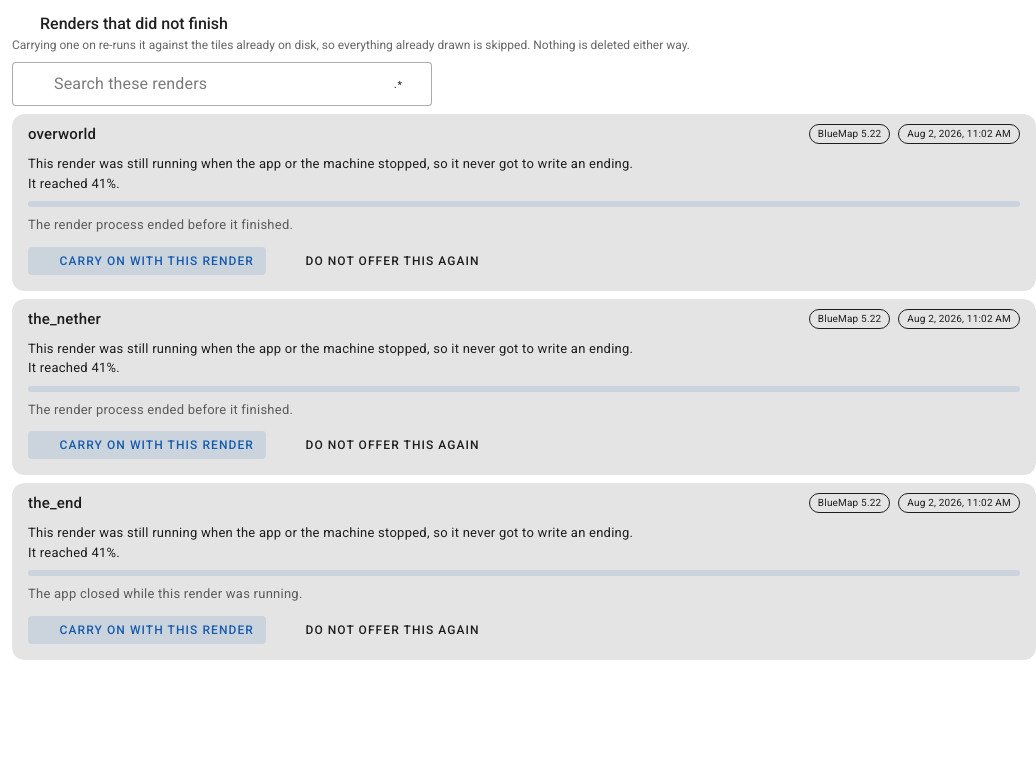
Test: the search bar this list carries › filters to the render being looked for, and says how much it is hiding
The width and height of the screenshot is (1036, 768).
Type "nether" into the search field labelled "Search these renders" at (190, 82), box [48,62,332,102]
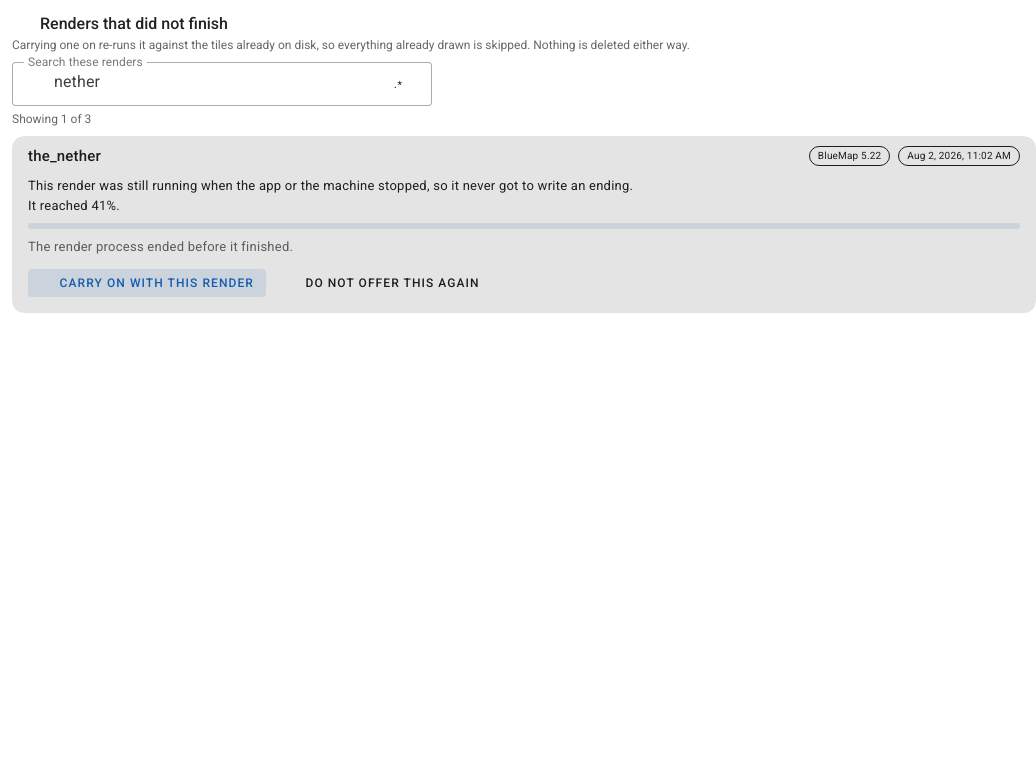
Expected: the element with class "mb-world-resume__head" shows "the_nether", [28,147,101,165]
Now the text "Showing 1 of 3" is shown, box [12,112,91,126]
